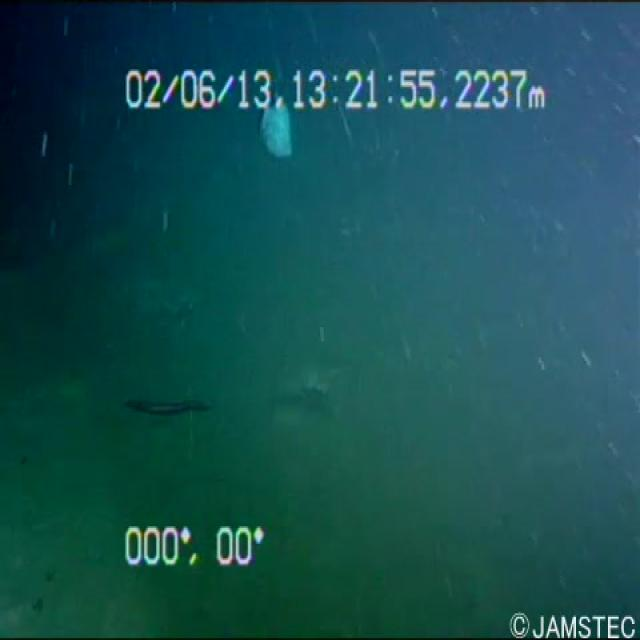plastic: (245, 91, 311, 167)
